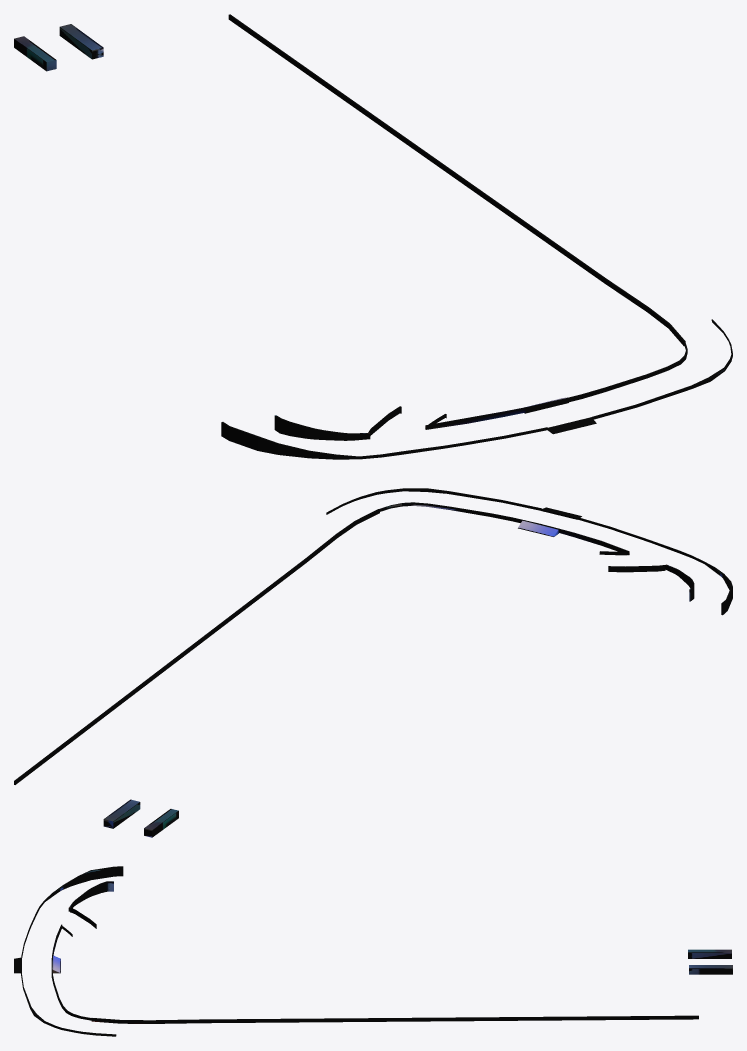
File: Road_covering_walls-transformed.glb
The picture shows the model from 3 angles, top to bottom: view 1: azimuth 30°, elevation 25°; view 2: azimuth 150°, elevation 25°; view 3: azimuth 270°, elevation 25°; orthographic projection. The views are drawn at different scales.
Visible parts, largest first — view 1: Cube.026, Cube.028, Cube.033, Cube.036, Cube.040, Cube.027, Cube.038; view 2: Cube.026, Cube.033, Cube.028, Cube.027; view 3: Cube.026, Cube.028, Cube.040, Cube.038, Cube.036, Cube.027, Cube.033.
Part boxes in pixels (<box>): Cube.026: <box>228,14,685,346</box>; Cube.028: <box>221,422,547,459</box>; Cube.033: <box>425,341,687,429</box>; Cube.036: <box>274,415,370,440</box>; Cube.040: <box>59,24,103,59</box>; Cube.027: <box>591,319,732,419</box>; Cube.038: <box>14,36,56,71</box>; Cube.026: <box>14,509,379,784</box>; Cube.033: <box>380,502,629,555</box>; Cube.028: <box>577,517,732,615</box>; Cube.027: <box>326,488,541,514</box>; Cube.026: <box>91,1015,698,1023</box>; Cube.028: <box>21,866,123,957</box>; Cube.040: <box>689,965,732,974</box>; Cube.038: <box>688,949,731,958</box>; Cube.036: <box>68,881,113,911</box>; Cube.027: <box>20,971,116,1036</box>; Cube.033: <box>51,924,91,1020</box>.
Bounding box in the file's own units: 2500 × 79.64 × 4729.
2 materials, 1 textured.
